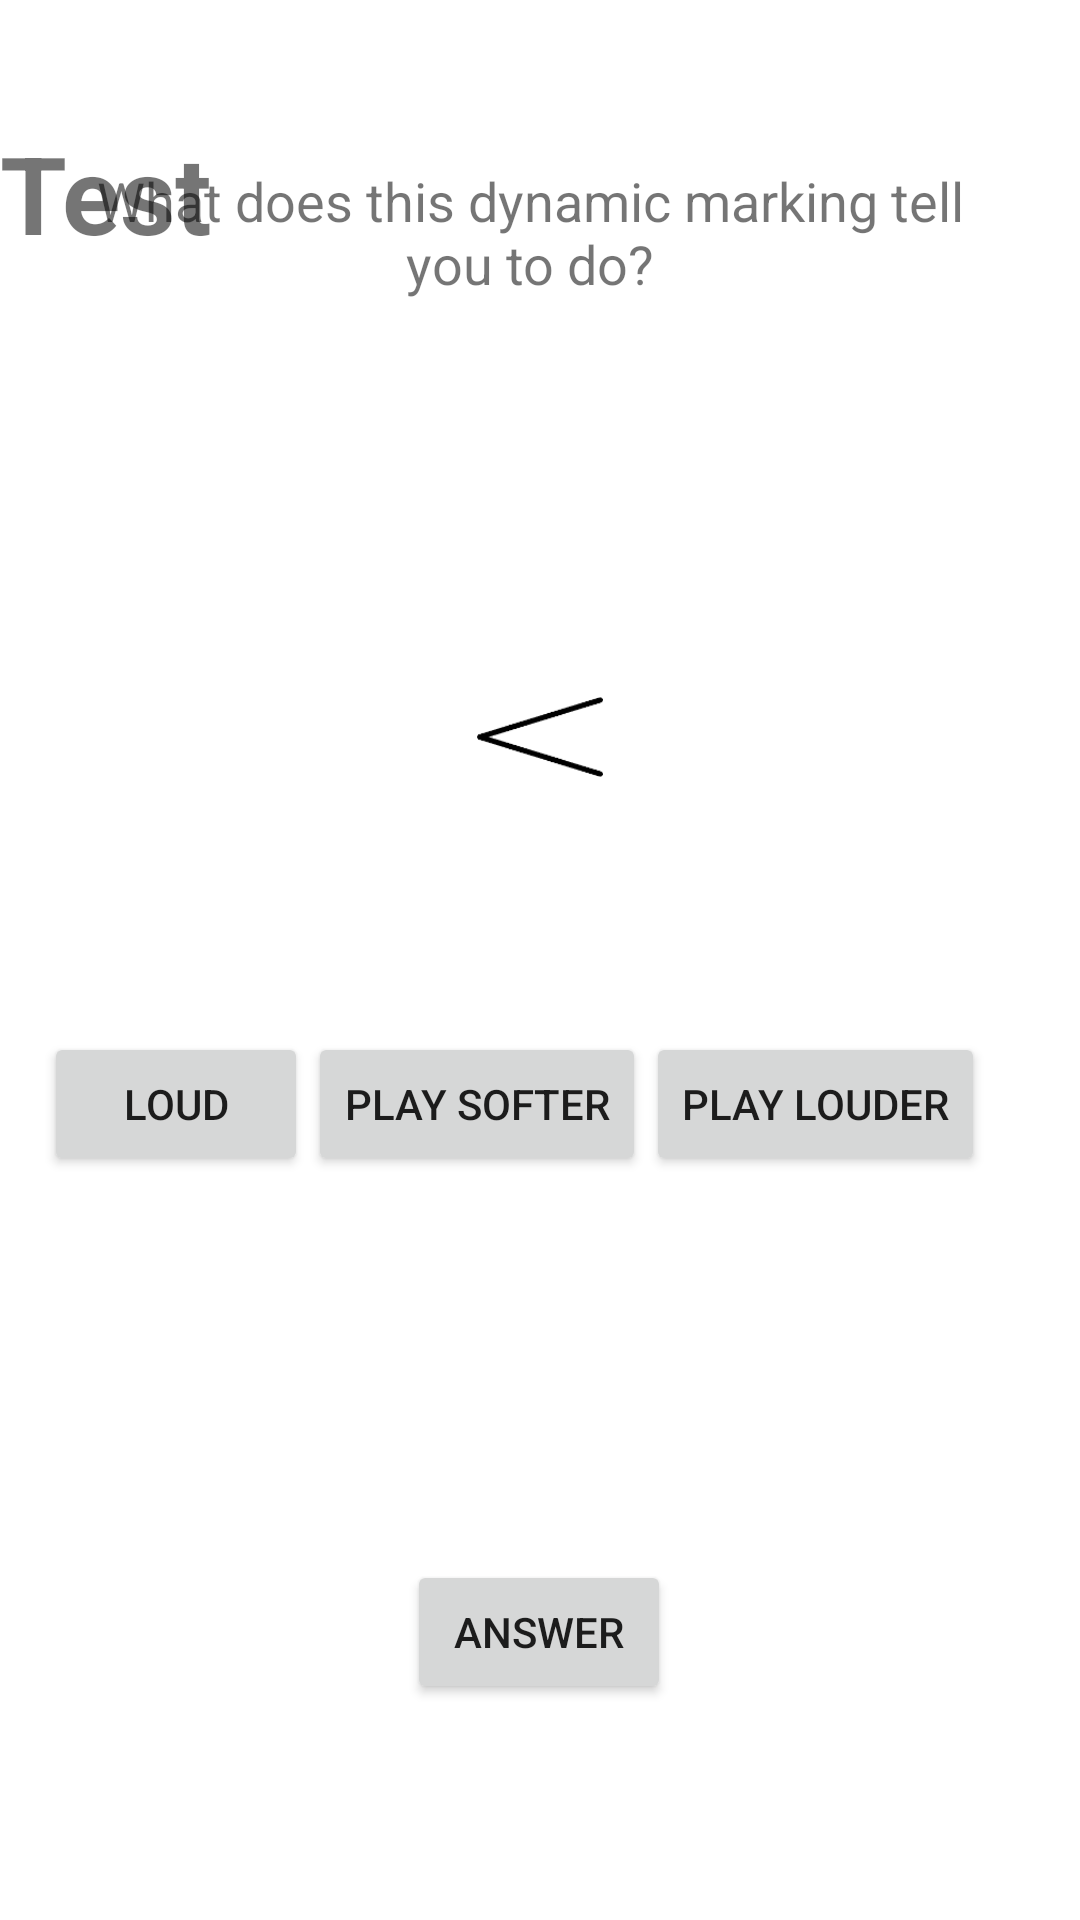

Screen size 1080x1920. Icon name, then its center in pixels as point (x, y):
crescendo dynamic marking: point (540, 737)
